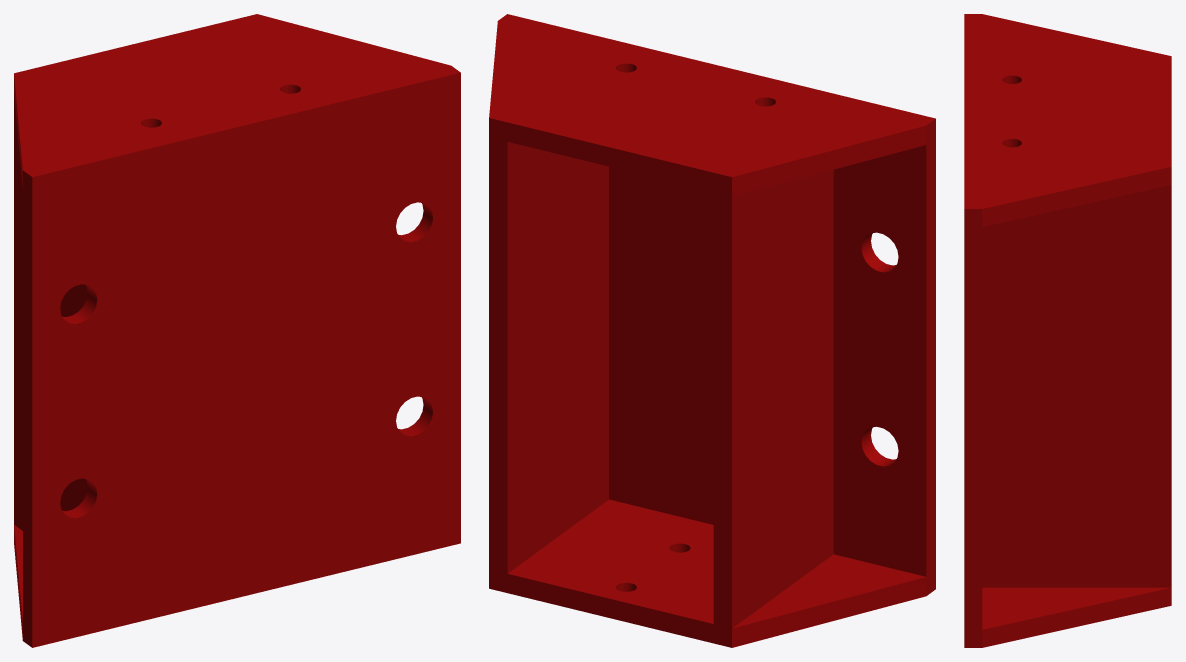
The model's file is leg-1.FBX.
The picture shows the model from 3 angles, left to right: view 1: azimuth 30°, elevation 25°; view 2: azimuth 150°, elevation 25°; view 3: azimuth 270°, elevation 25°; orthographic projection. The views are drawn at different scales.
Visible parts, largest first — view 1: Box053; view 2: Box053; view 3: Box053.
Boxes of the visible parts, x1=… form: Box053: x1=14, y1=14, x2=460, y2=647; Box053: x1=489, y1=14, x2=935, y2=647; Box053: x1=964, y1=14, x2=1171, y2=647.
Bounding box in the file's own units: 1.82 × 1.91 × 0.8164.
